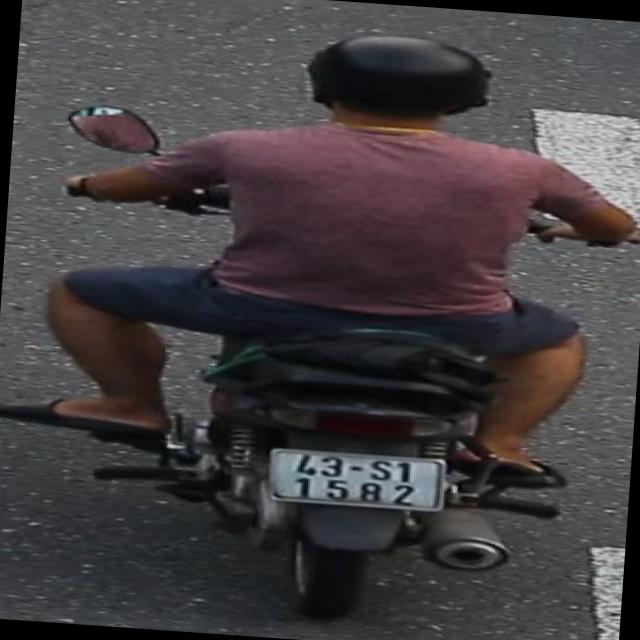LP: (258, 442, 452, 518)
helmet: (284, 24, 502, 150)
